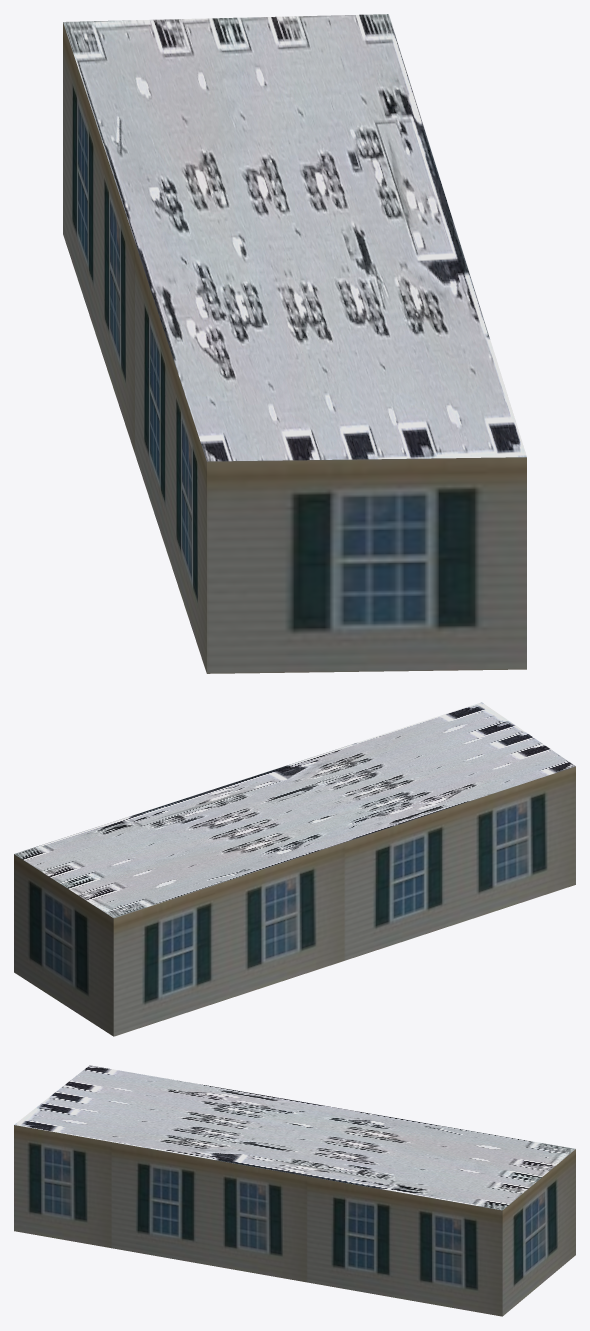
The model's file is ResTex__2480.fbx.
The picture shows the model from 3 angles, top to bottom: view 1: azimuth 30°, elevation 25°; view 2: azimuth 150°, elevation 25°; view 3: azimuth 270°, elevation 25°; orthographic projection. The views are drawn at different scales.
Visible parts, largest first — view 1: CityEngineMaterial_15_m, CityEngineMaterial_7_m; view 2: CityEngineMaterial_7_m, CityEngineMaterial_15_m; view 3: CityEngineMaterial_7_m, CityEngineMaterial_15_m.
Part boxes in pixels (box(x1,y1,x2,y2)): CityEngineMaterial_15_m: box(63, 14, 526, 461); CityEngineMaterial_7_m: box(63, 22, 526, 673); CityEngineMaterial_7_m: box(14, 766, 575, 1036); CityEngineMaterial_15_m: box(14, 702, 575, 917); CityEngineMaterial_7_m: box(14, 1125, 575, 1316); CityEngineMaterial_15_m: box(14, 1065, 575, 1210).
Bounding box in the file's own units: 8.79 × 3 × 14.39.
2 materials, 2 textured.
